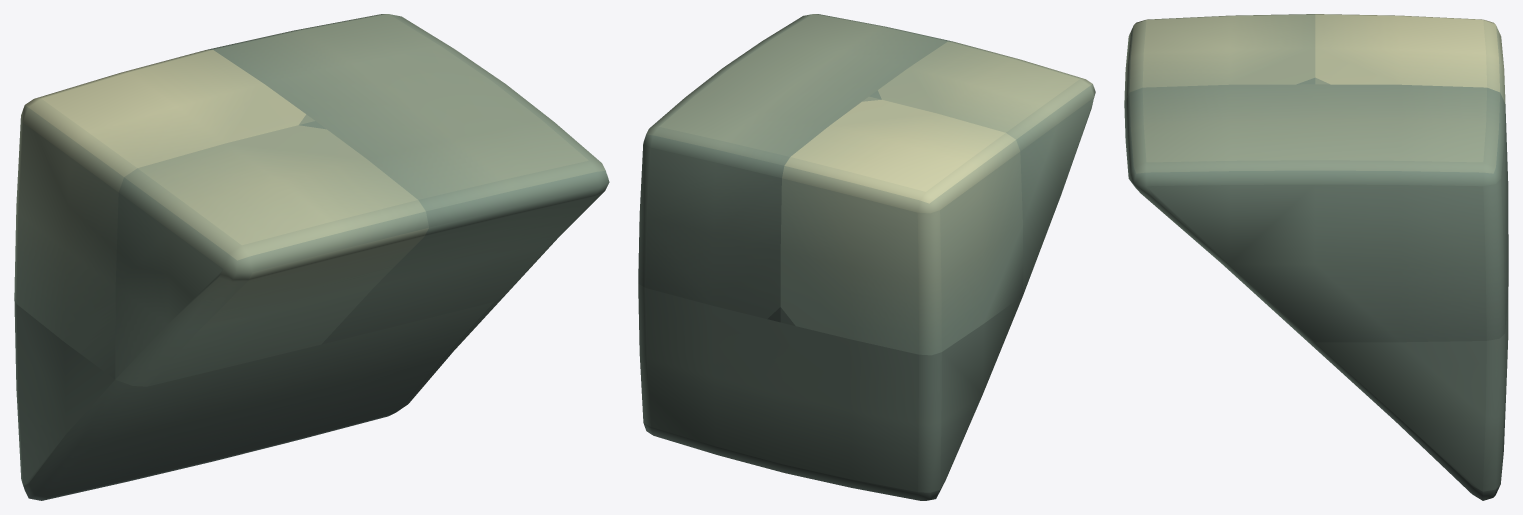
File: Stone_2x2_SlopeUnder.fbx
The picture shows the model from 3 angles, left to right: view 1: azimuth 30°, elevation 25°; view 2: azimuth 150°, elevation 25°; view 3: azimuth 270°, elevation 25°; orthographic projection. The views are drawn at different scales.
Parts seen in each view (by area): view 1: Stone_2x2_SlopeUnder_LOD0; view 2: Stone_2x2_SlopeUnder_LOD0; view 3: Stone_2x2_SlopeUnder_LOD0.
Part boxes in pixels (<box>): Stone_2x2_SlopeUnder_LOD0: <box>14,14,609,500</box>; Stone_2x2_SlopeUnder_LOD0: <box>638,14,1095,500</box>; Stone_2x2_SlopeUnder_LOD0: <box>1124,14,1508,500</box>.
Size of what is drawn, in the model's own units: 1.09 by 1.08 by 1.08.
